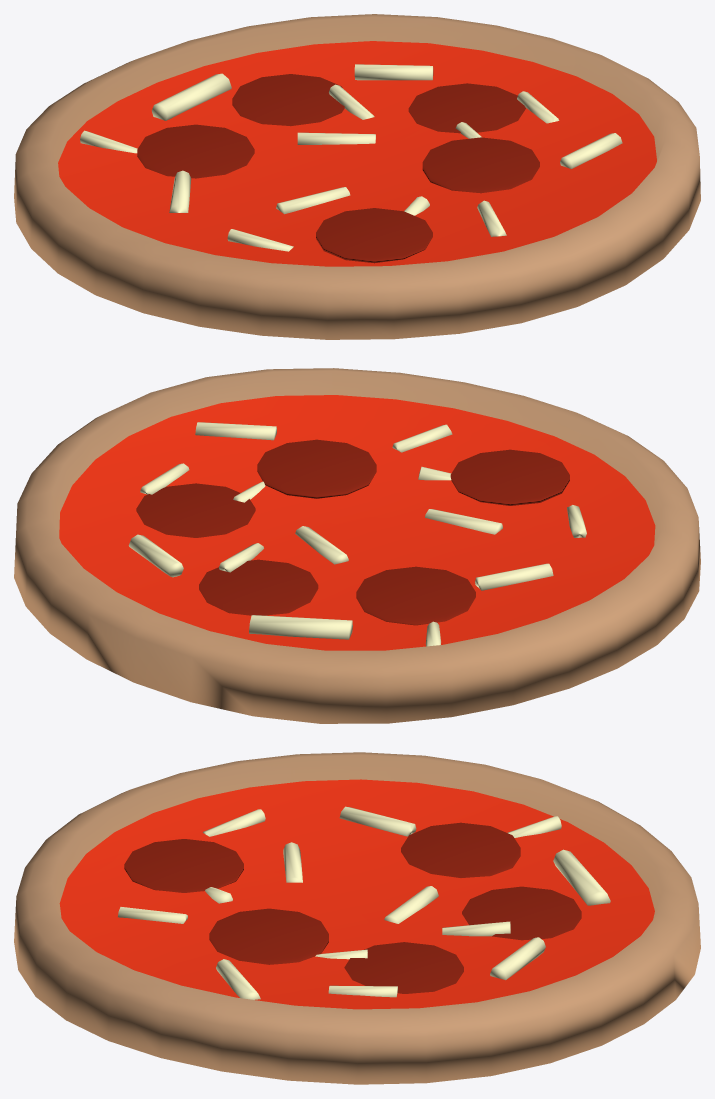
The model's file is pizza.glb.
3 views of the same model, one above another, from view 1: azimuth 30°, elevation 25°; view 2: azimuth 150°, elevation 25°; view 3: azimuth 270°, elevation 25° (orthographic). The views are drawn at different scales.
Parts seen in each view (by area): view 1: Pizza_0; view 2: Pizza_0; view 3: Pizza_0.
Boxes of the visible parts, left/top/right/bottom form: Pizza_0: left=14, top=14, right=700, bottom=339; Pizza_0: left=14, top=368, right=700, bottom=723; Pizza_0: left=14, top=752, right=700, bottom=1084.
Bounding box in the file's own units: 2.02 × 0.2601 × 1.99.
Materials: 1 (1 with a texture image).
